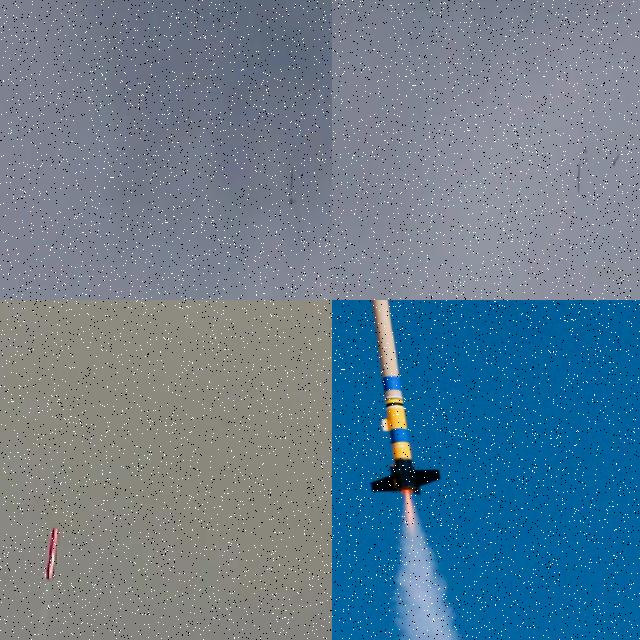Rocket: (350, 300, 444, 498), (45, 528, 60, 580), (612, 153, 620, 166)
